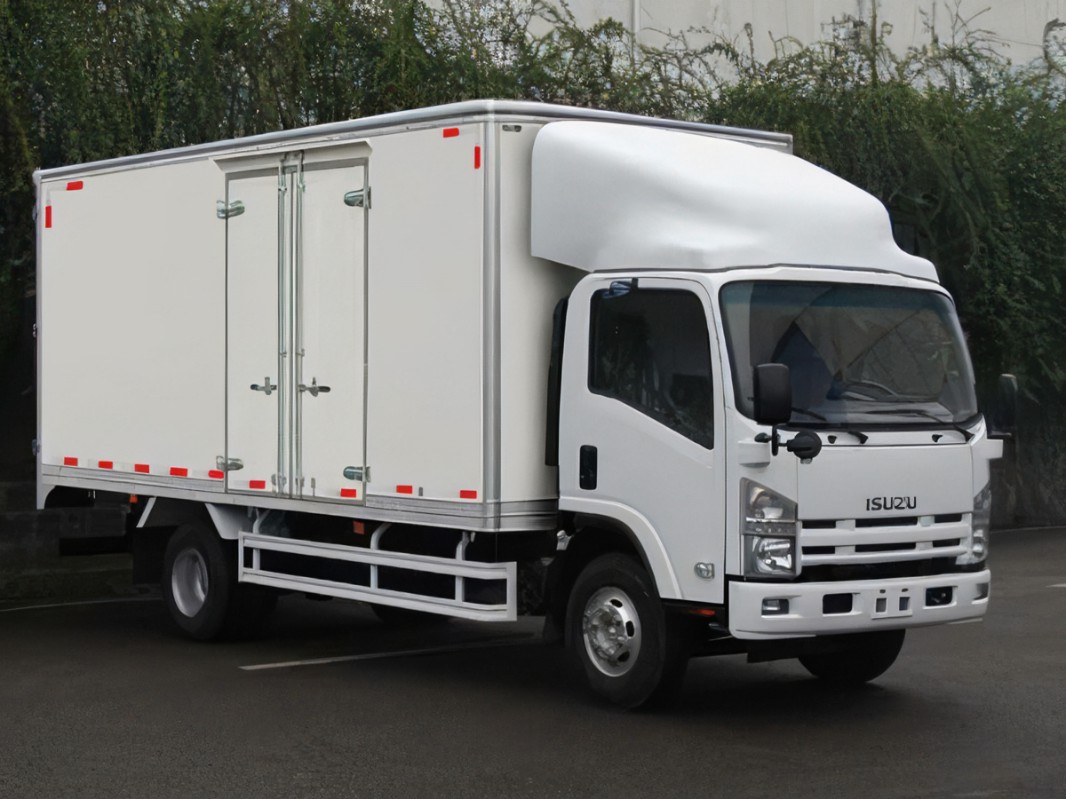smalltruck: (20, 81, 1008, 703)
